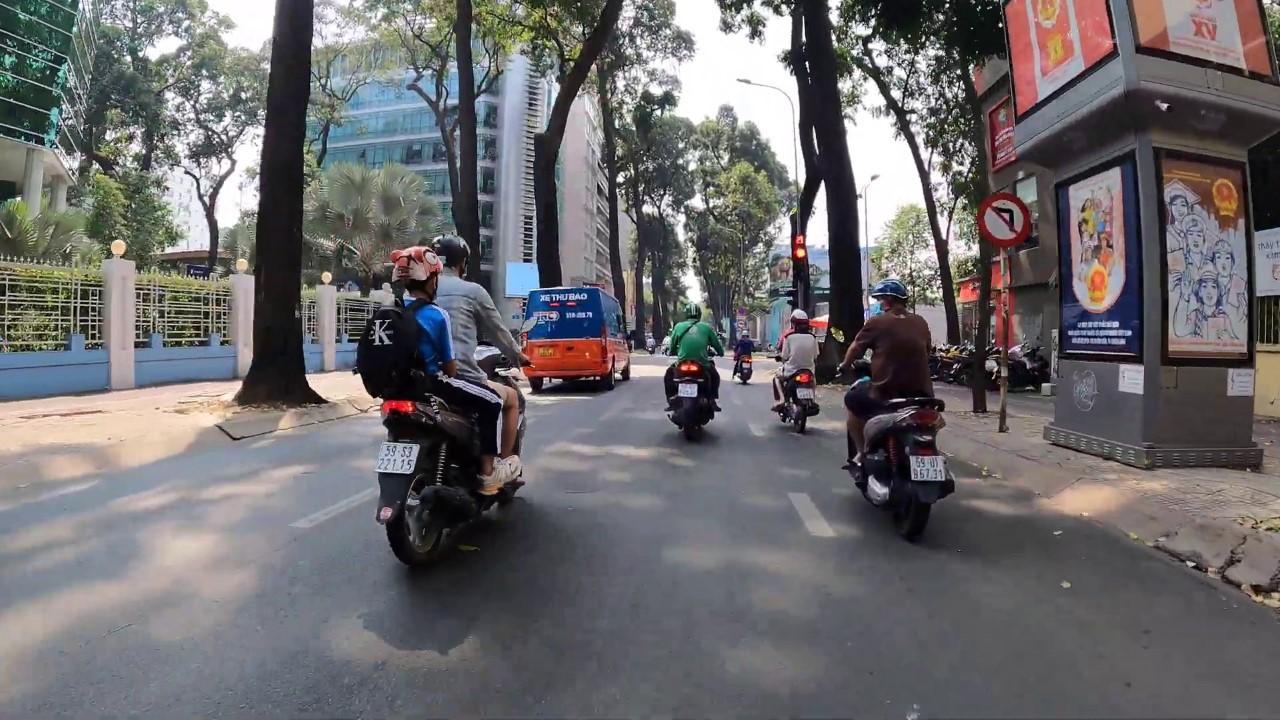cam_re_trai: (977, 192, 1032, 249)
